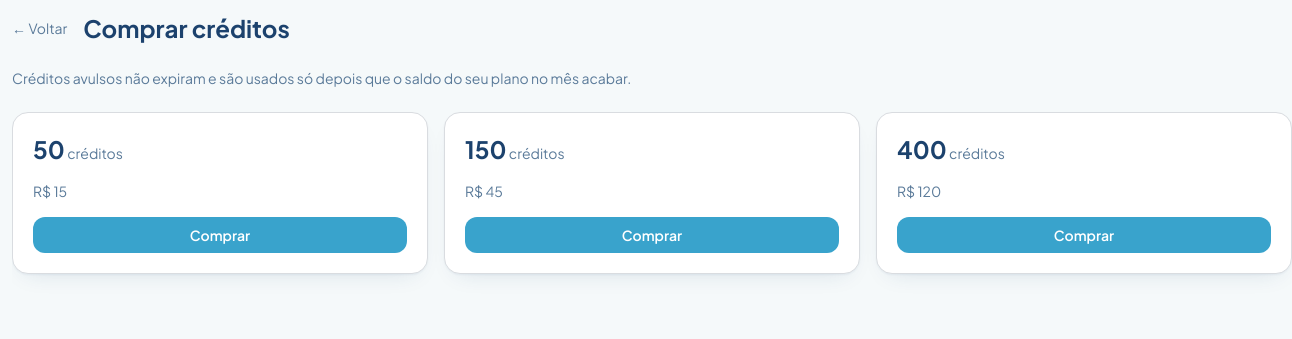
CreditsPage › mostra erro quando o checkout falha
What coordinates should you click on to do the following:
click the button "Comprar" below "R$ 15"
I would click on:
 (220, 235)
Its box is [33,217,407,253].
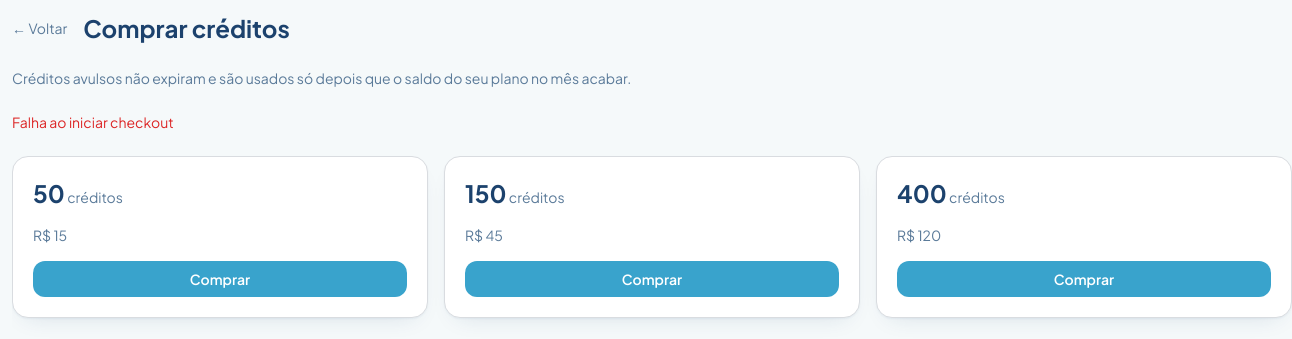
Expected: the text "Falha ao iniciar checkout" is shown, [12,113,174,131]
